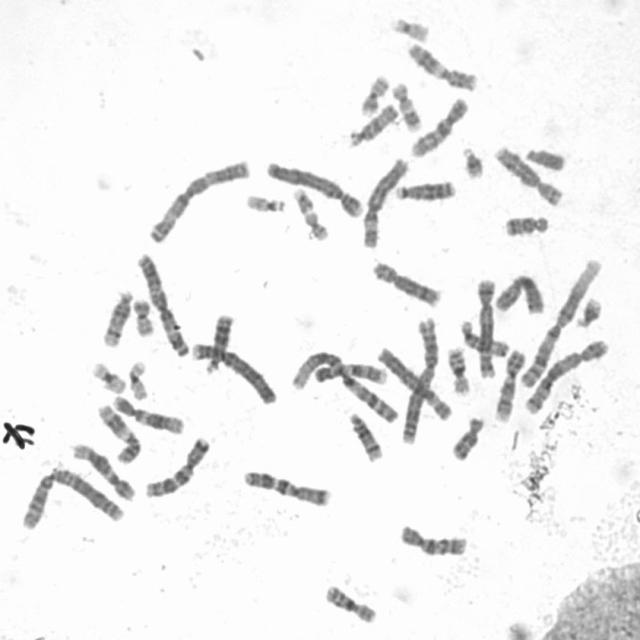A1: (516, 253, 604, 390), (287, 346, 401, 425)
A2: (15, 464, 129, 531), (397, 312, 441, 446)
A3: (145, 155, 254, 245), (132, 248, 191, 358)
B4: (262, 156, 366, 220), (187, 337, 279, 406)
B5: (522, 334, 611, 416), (472, 274, 498, 381)
C10: (407, 92, 472, 159), (396, 520, 470, 558)
C11: (403, 36, 480, 92), (94, 400, 144, 464)
C12: (68, 436, 138, 503), (109, 390, 186, 436)
C6: (373, 342, 454, 422), (356, 152, 411, 251)
C7: (141, 432, 213, 500), (240, 465, 334, 508)
C8: (492, 140, 566, 208), (368, 256, 444, 308)
C9: (490, 345, 528, 423), (311, 360, 390, 386)
D13: (203, 310, 236, 375), (392, 175, 458, 203)
D14: (98, 285, 135, 349), (345, 408, 385, 463)
D15: (345, 99, 401, 148), (457, 316, 511, 358)
E16: (321, 580, 379, 625), (444, 342, 473, 396)
E17: (290, 182, 332, 242), (389, 78, 424, 133)
E18: (448, 411, 487, 462), (501, 210, 551, 239)
F19: (88, 357, 128, 396), (124, 356, 150, 402)
F20: (356, 70, 391, 117), (130, 294, 157, 338)
G21: (572, 292, 605, 329), (458, 141, 487, 181)
G22: (387, 13, 431, 43), (242, 189, 288, 214)
X: (492, 270, 548, 316)
Y: (523, 143, 568, 172)
